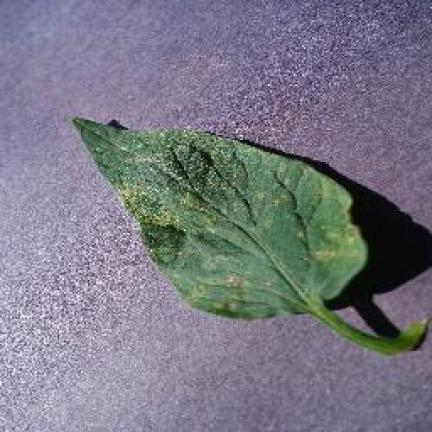disease: (74, 118, 425, 353)
leaf: (184, 297, 197, 305)
